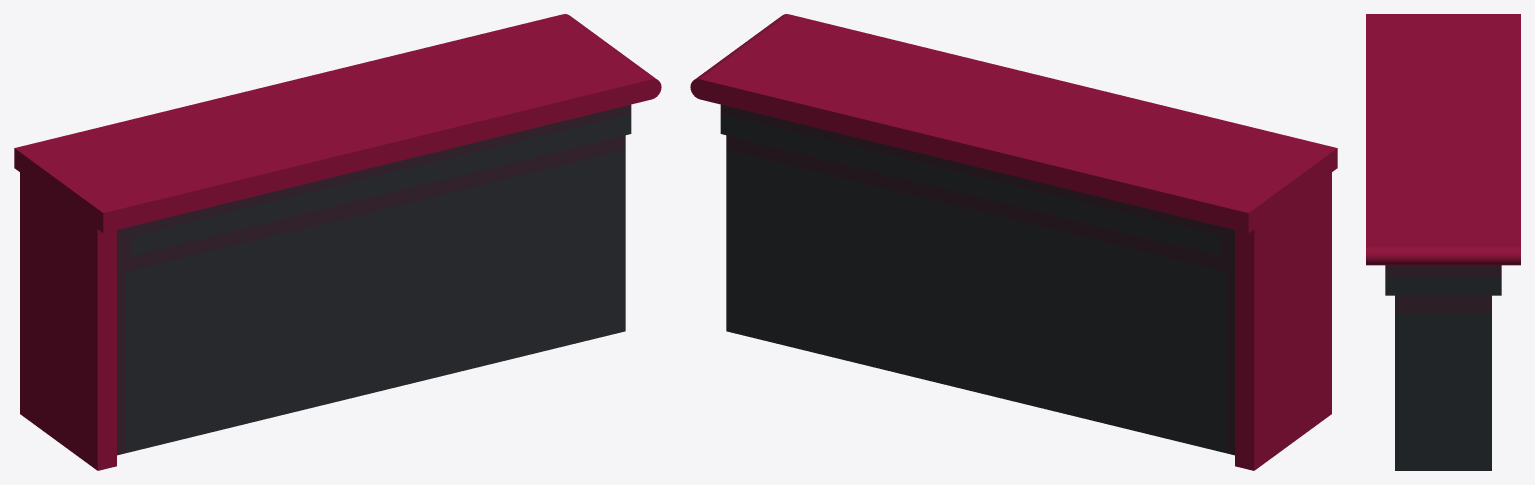
File: counter.glb
The picture shows the model from 3 angles, left to right: view 1: azimuth 30°, elevation 25°; view 2: azimuth 150°, elevation 25°; view 3: azimuth 270°, elevation 25°; orthographic projection. The views are drawn at different scales.
Parts seen in each view (by area): view 1: generated(Clone); view 2: generated(Clone); view 3: generated(Clone).
Part boxes in pixels (x1,y1,x2,y2): generated(Clone): (14,14,661,470); generated(Clone): (690,14,1337,470); generated(Clone): (1366,14,1520,470).
Size of the model in its own units: 29 by 13 by 8.
